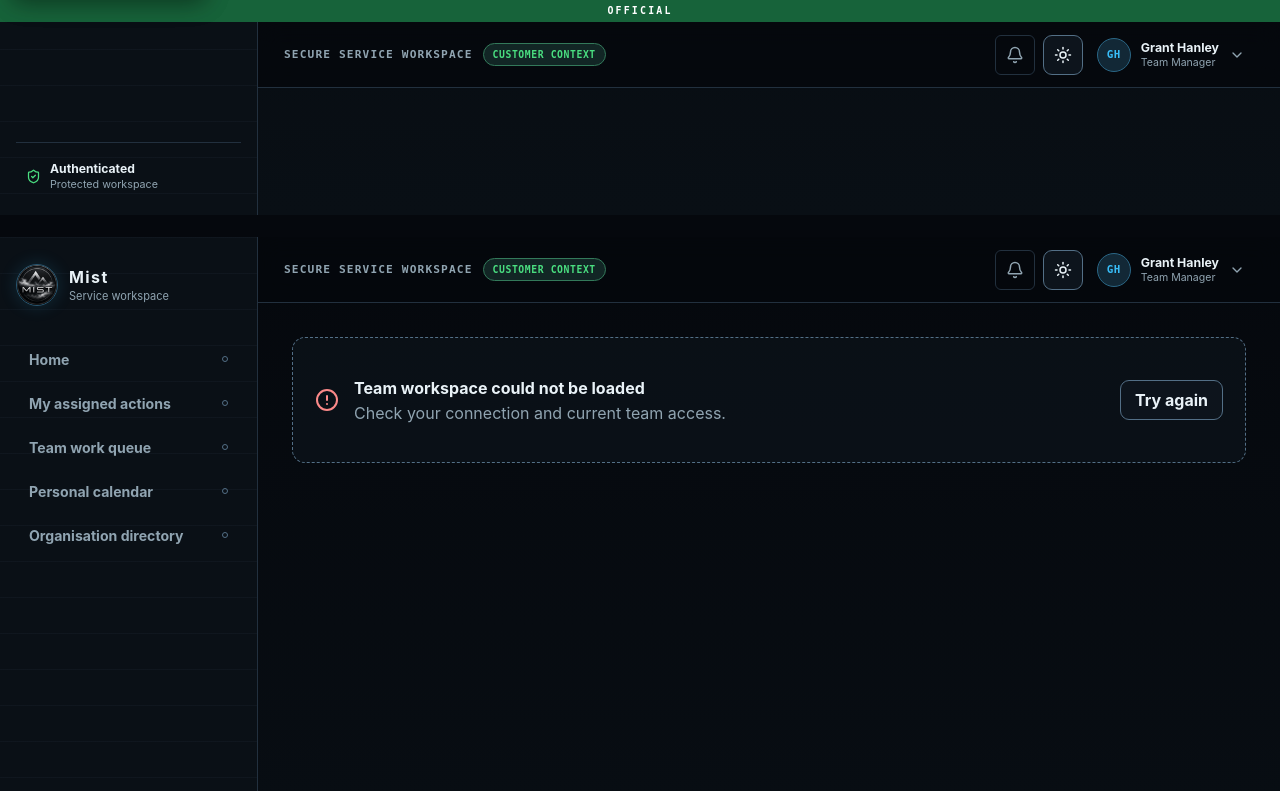
Test case: team workspace › reports an empty assignment and recovers workspace and overview queries
(page scrolled)
Check: the heading "Team workspace could not be loaded" is shown, box [354,378,645,398]
Click the button "Try again" at (1172, 400), box [1120,380,1223,420]
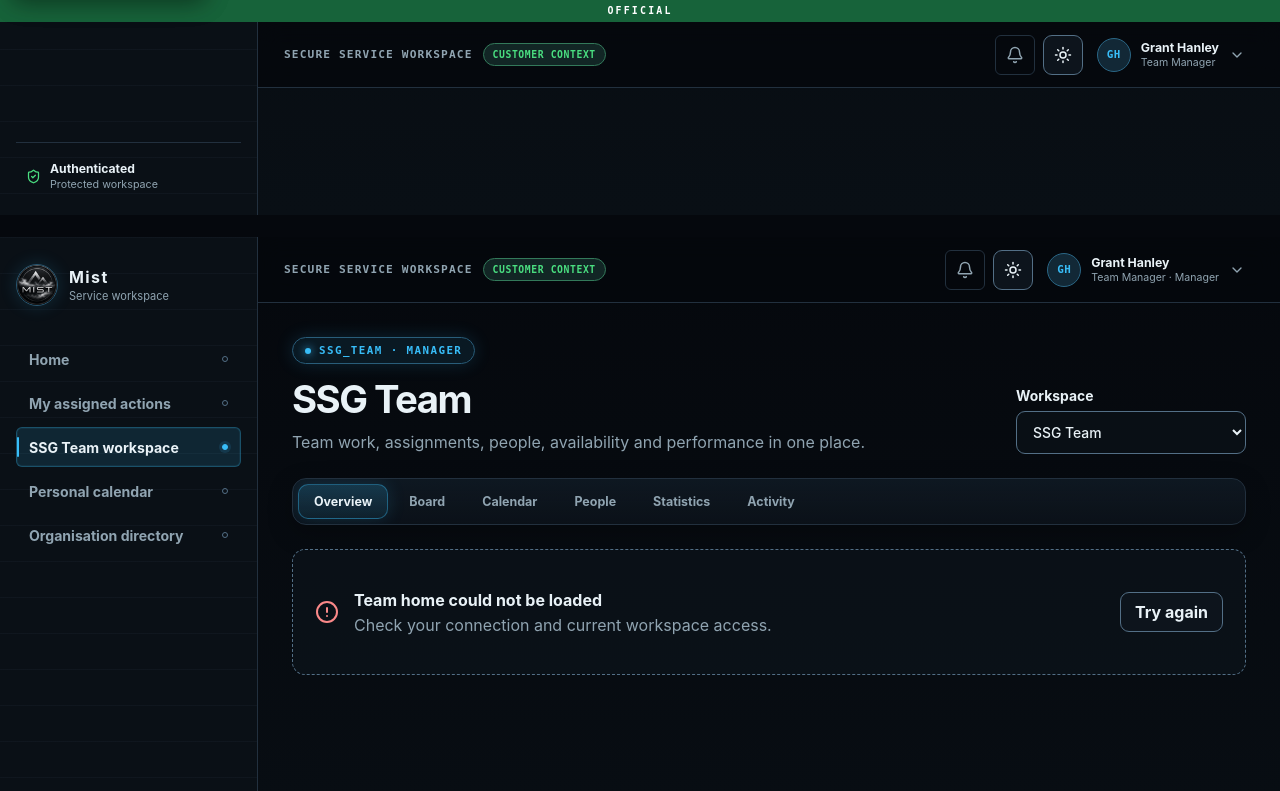
Check: the heading "Team home could not be loaded" is shown, box [354,590,602,610]
Click the button "Try again" at (1172, 612), box [1120,592,1223,632]
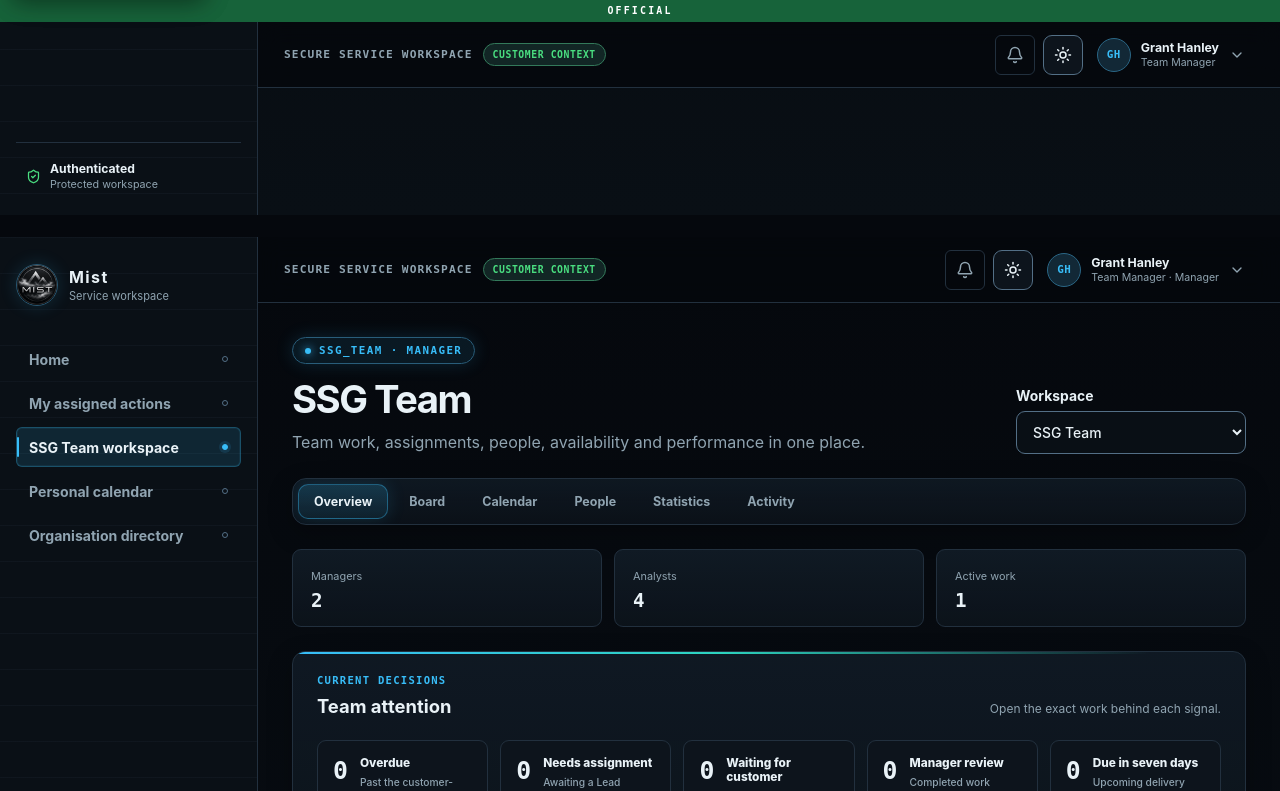
Check: the heading "Team attention" is shown, box [317,695,451,717]
Select "Quartz Team" in the dropdown labelled "Workspace" at (1131, 432), box [1016,411,1246,454]
(page scrolled)
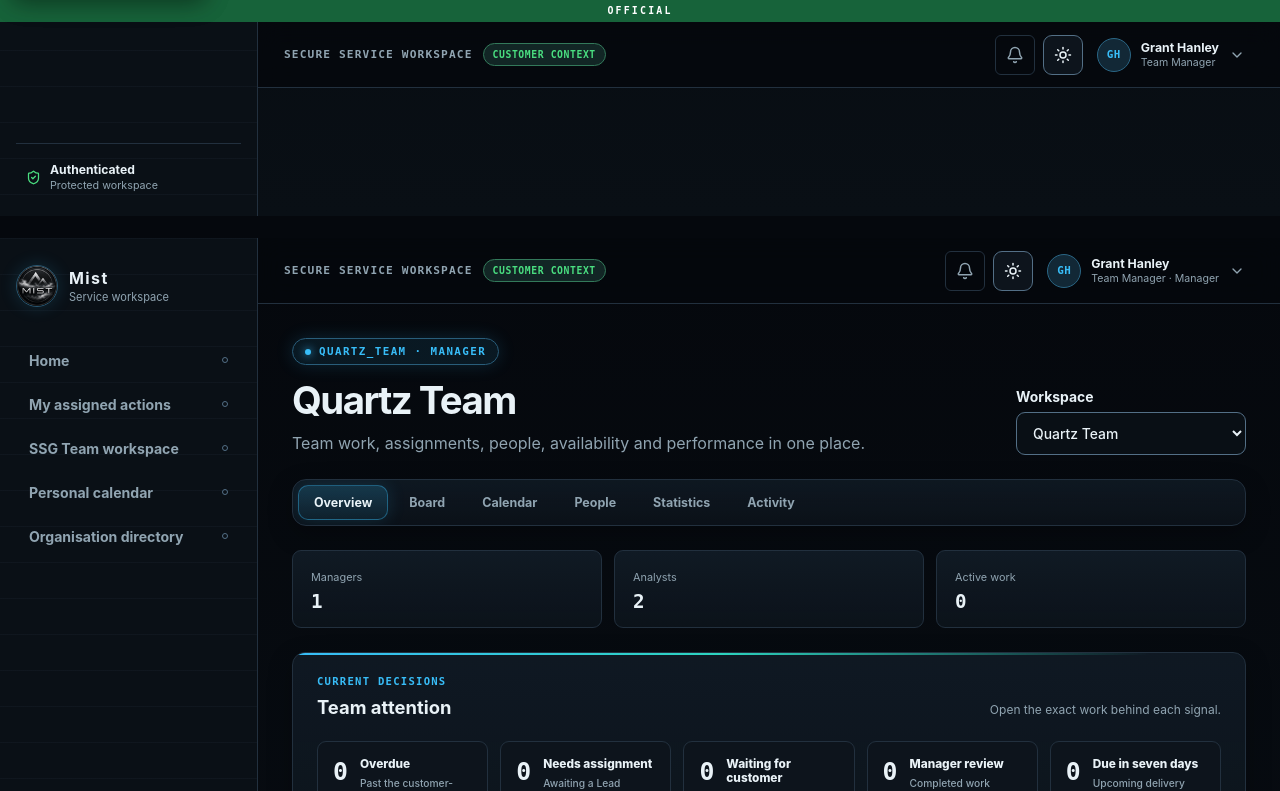
Check: the heading "Quartz Team" is shown, box [292,377,516,423]
